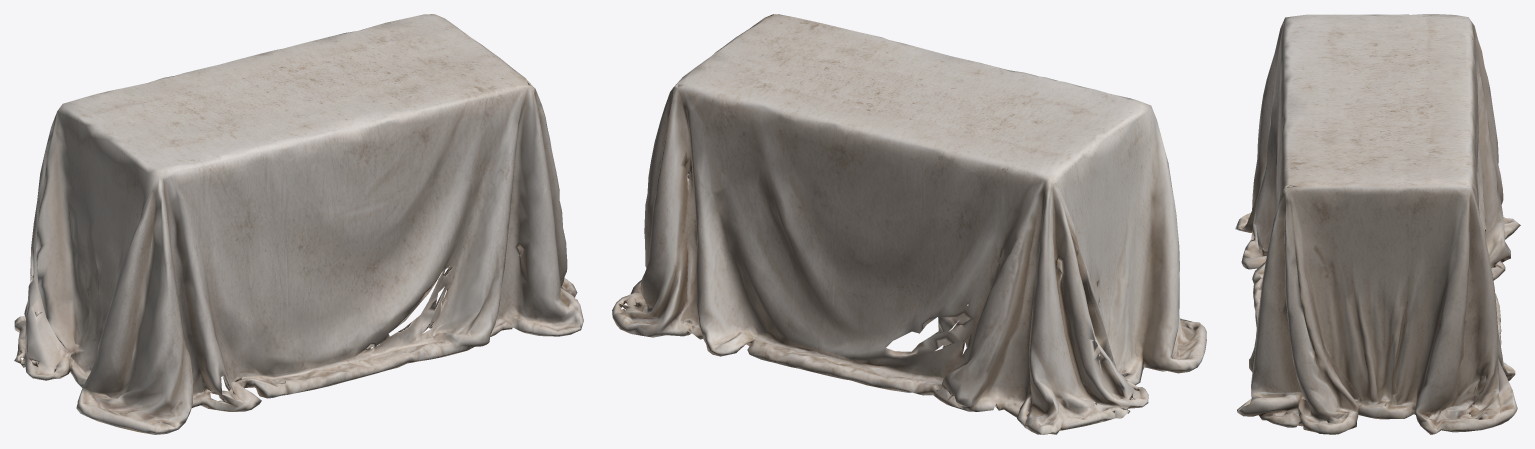
File: VAR_DollRoom_SheetLow.fbx
The picture shows the model from 3 angles, left to right: view 1: azimuth 30°, elevation 25°; view 2: azimuth 150°, elevation 25°; view 3: azimuth 270°, elevation 25°; orthographic projection. The views are drawn at different scales.
Parts seen in each view (by area): view 1: texture_mapping; view 2: texture_mapping; view 3: texture_mapping.
Part boxes in pixels (x1,y1,x2,y2): texture_mapping: [14, 14, 583, 434]; texture_mapping: [612, 14, 1206, 434]; texture_mapping: [1235, 14, 1520, 434].
Size of the model in its own units: 1 by 0.5318 by 0.466.
1 material, 1 textured.
